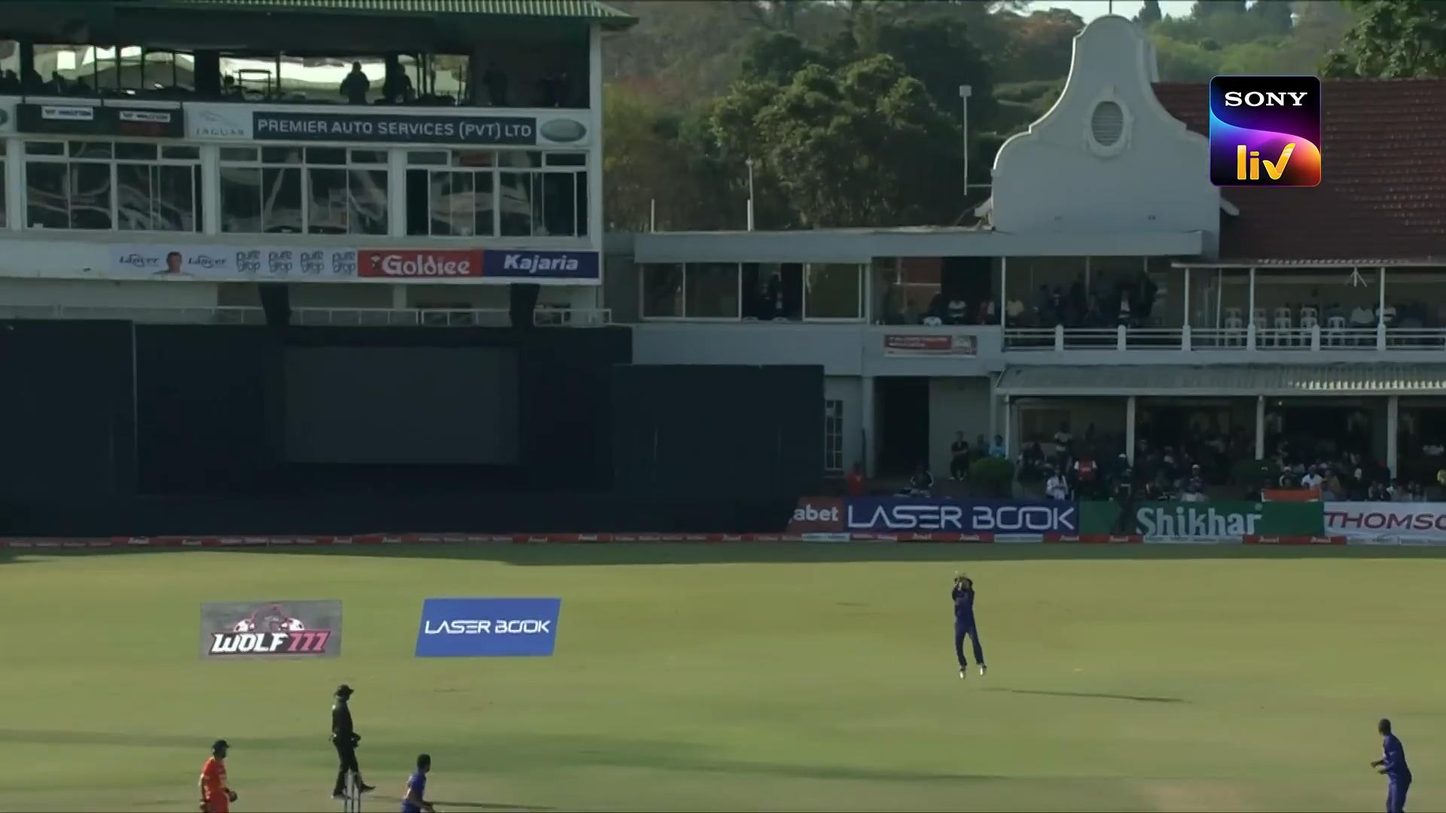batsman: (198, 739, 238, 813)
